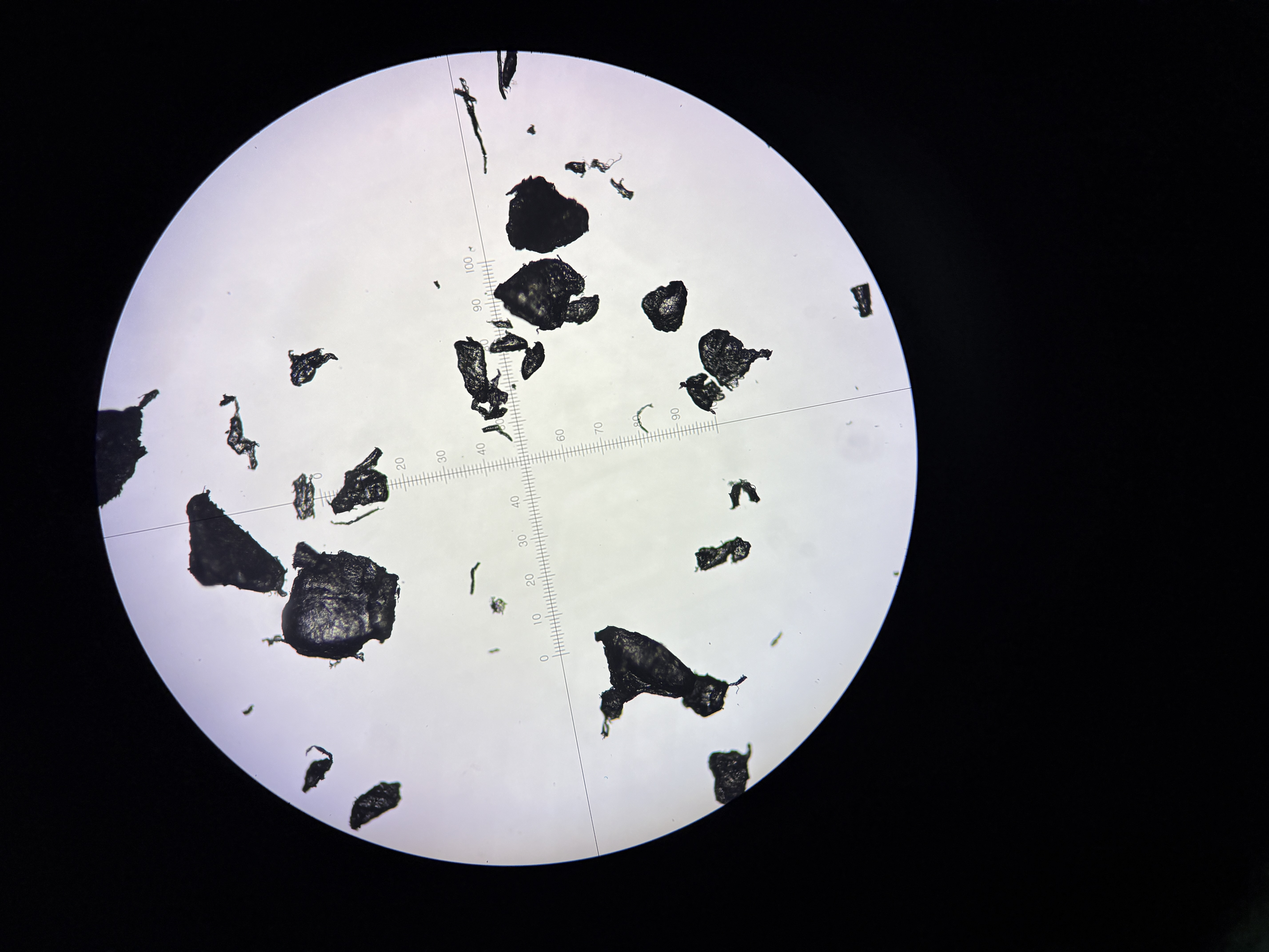microplastic: (261, 539, 402, 672), (593, 624, 699, 741), (183, 483, 289, 598), (96, 388, 161, 509), (493, 254, 588, 335), (504, 174, 591, 255), (697, 327, 774, 392), (325, 445, 391, 516), (217, 392, 262, 472), (453, 77, 489, 176), (681, 670, 748, 718), (705, 742, 754, 806), (348, 780, 403, 832), (640, 279, 688, 333), (453, 336, 490, 404), (286, 346, 341, 388), (692, 536, 753, 573), (677, 372, 727, 416), (470, 368, 509, 420), (301, 744, 335, 796), (290, 472, 317, 522), (329, 506, 387, 528), (563, 294, 601, 326), (726, 478, 762, 511), (518, 340, 546, 382), (488, 329, 530, 354), (848, 282, 875, 320), (580, 152, 623, 175), (502, 48, 519, 92), (609, 176, 636, 201), (480, 424, 514, 443), (496, 49, 508, 100), (636, 402, 654, 433), (468, 561, 482, 597), (489, 594, 508, 619), (564, 160, 587, 179), (486, 317, 514, 329), (769, 630, 784, 647), (240, 703, 257, 718), (525, 124, 537, 135), (486, 646, 502, 654), (433, 280, 441, 290), (893, 570, 901, 577), (511, 383, 518, 390)
